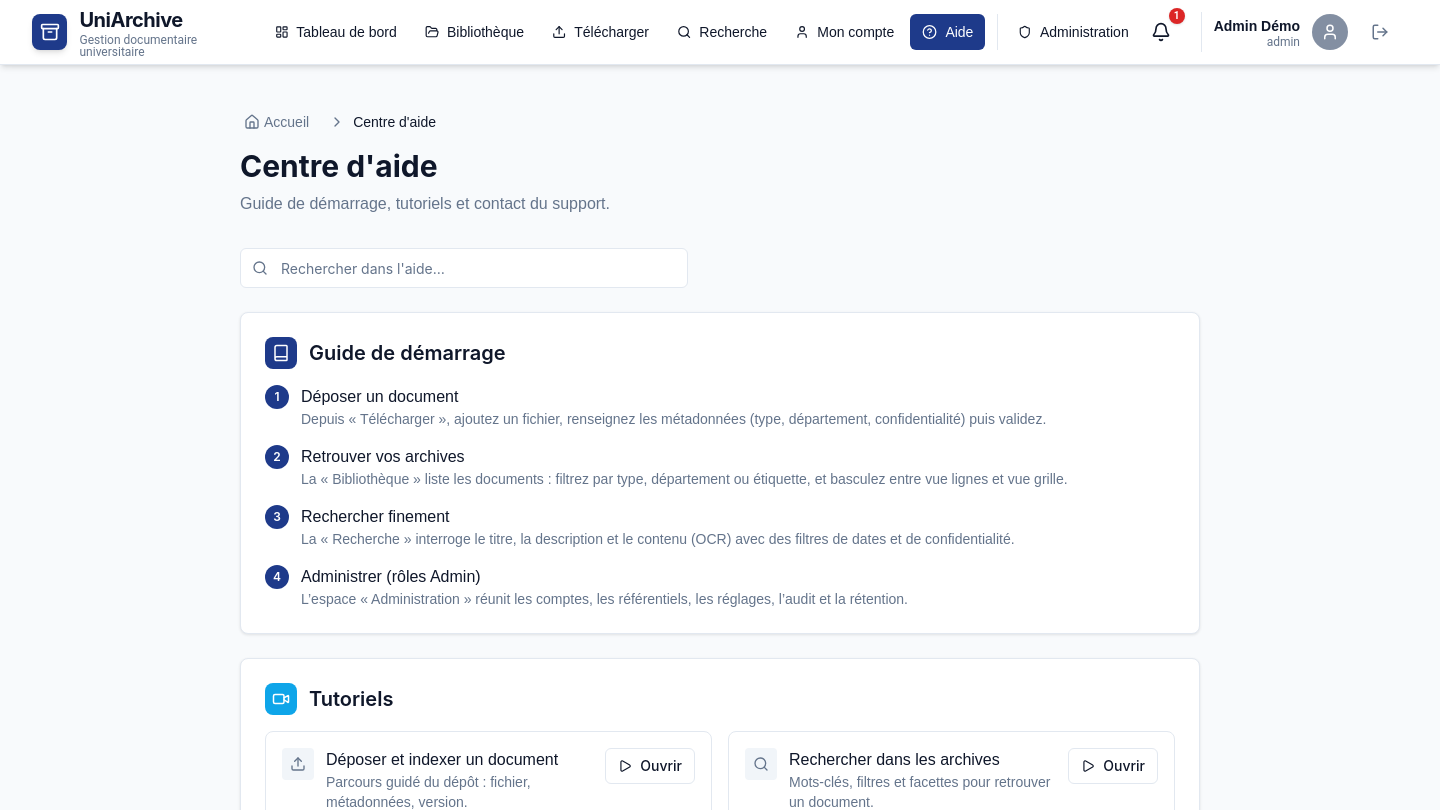
Scenario: centre d'aide (page /help) › affiche un état vide quand la recherche ne correspond à rien
The width and height of the screenshot is (1440, 810).
Type "zzzz" into the search field named "Rechercher dans le centre d'aide".
click(464, 268); type("zzzz")  # box [240,248,688,288]
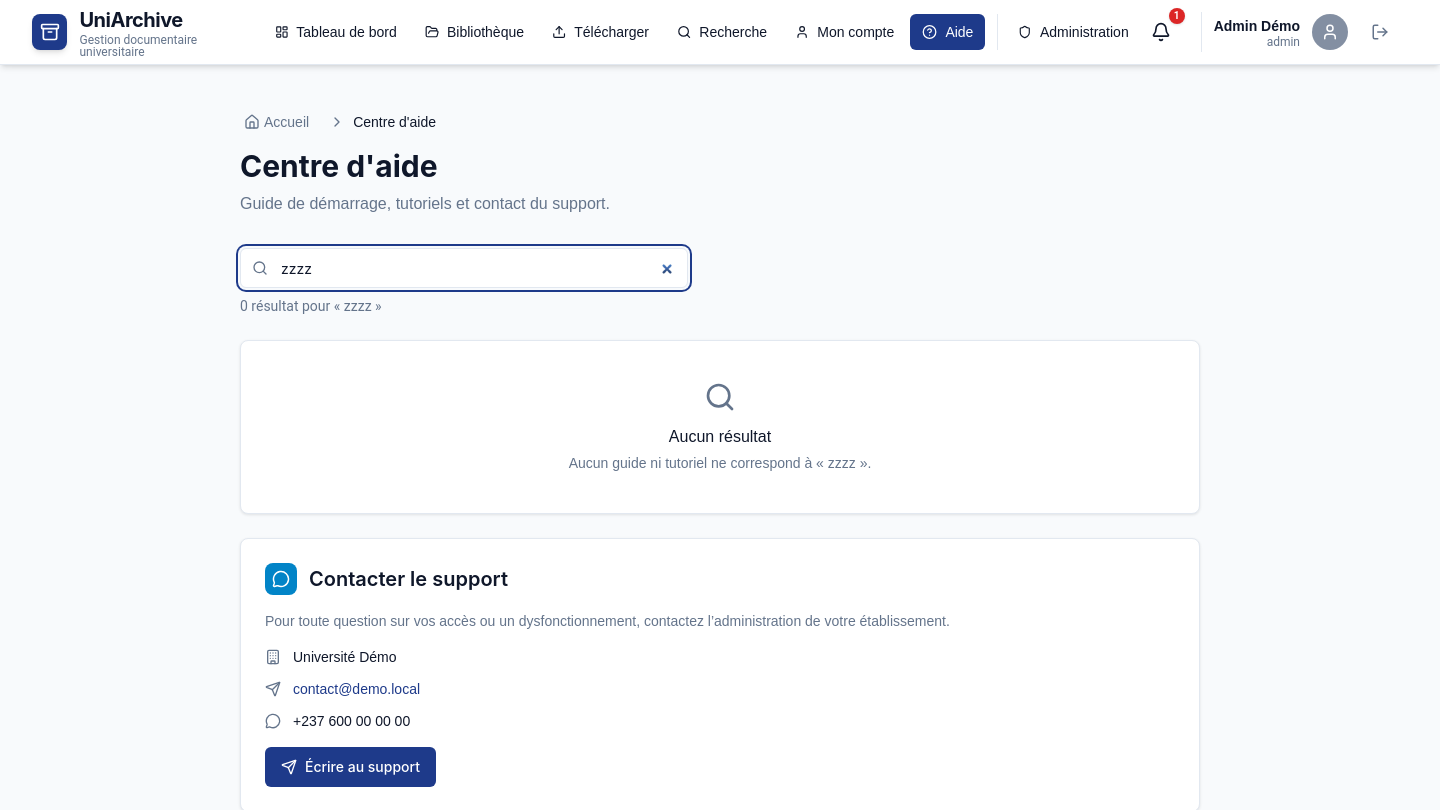
Now the text "Aucun résultat" is shown, box [669,425,771,449]
